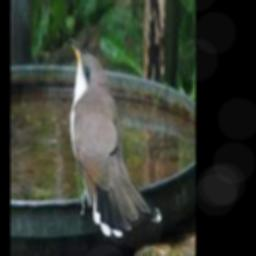Cuckoo: (67, 38, 161, 235)
